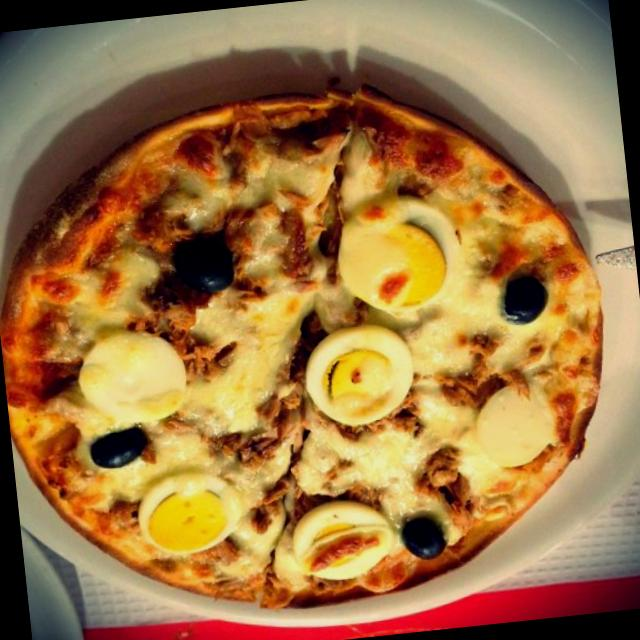Olive: (169, 234, 237, 298), (491, 268, 551, 329), (85, 424, 153, 476), (396, 512, 452, 565)
pizza: (0, 88, 601, 607)
